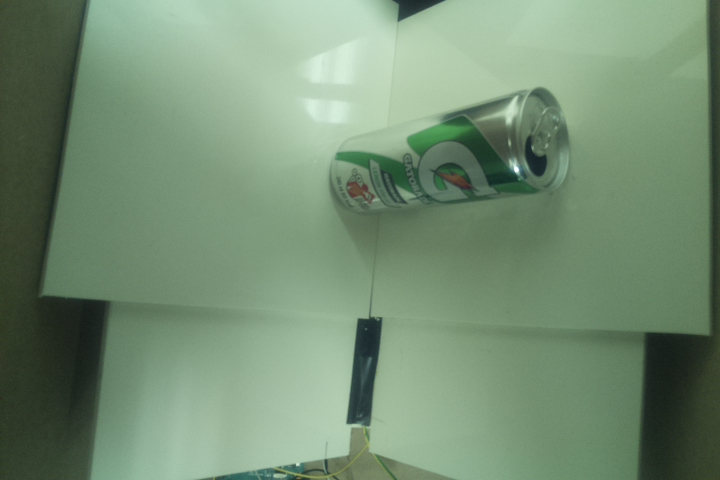can: (326, 84, 572, 219)
